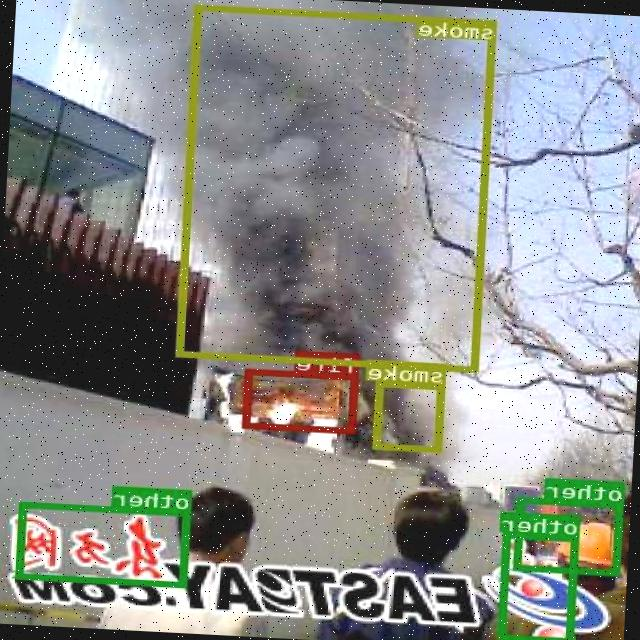fire: (244, 368, 360, 432)
smoke: (177, 5, 499, 372), (376, 380, 446, 451)
